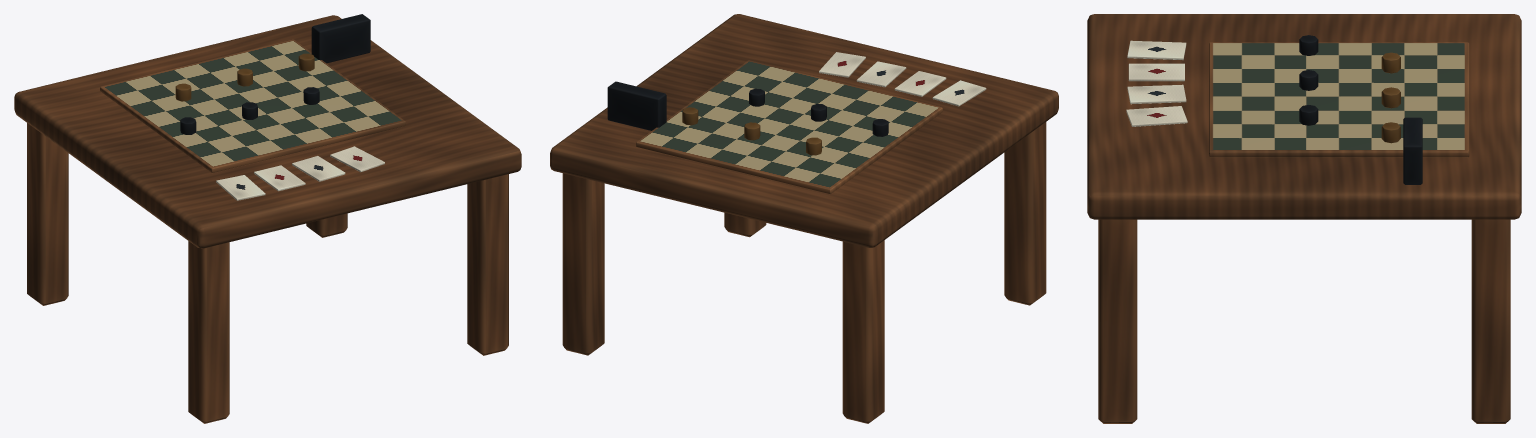
File: Furn_Place_GameTable.fbx
The picture shows the model from 3 angles, left to right: view 1: azimuth 30°, elevation 25°; view 2: azimuth 150°, elevation 25°; view 3: azimuth 270°, elevation 25°; orthographic projection. The views are drawn at different scales.
Parts seen in each view (by area): view 1: Furn_Place_GameTable; view 2: Furn_Place_GameTable; view 3: Furn_Place_GameTable.
Boxes of the visible parts, bbox=[...] form: Furn_Place_GameTable: bbox=[14, 14, 521, 423]; Furn_Place_GameTable: bbox=[550, 14, 1058, 423]; Furn_Place_GameTable: bbox=[1087, 14, 1521, 423].
Size of the model in its own units: 1 by 0.7 by 1.
Materials: 4 (4 with a texture image).
